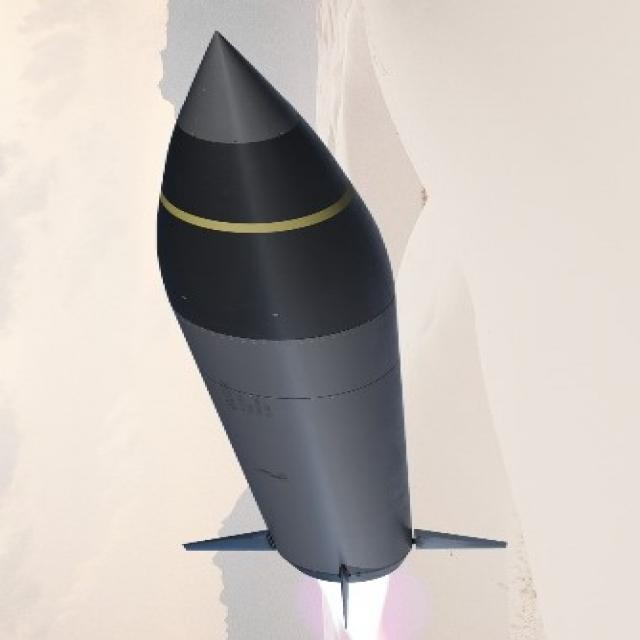missile: (152, 19, 508, 585)
